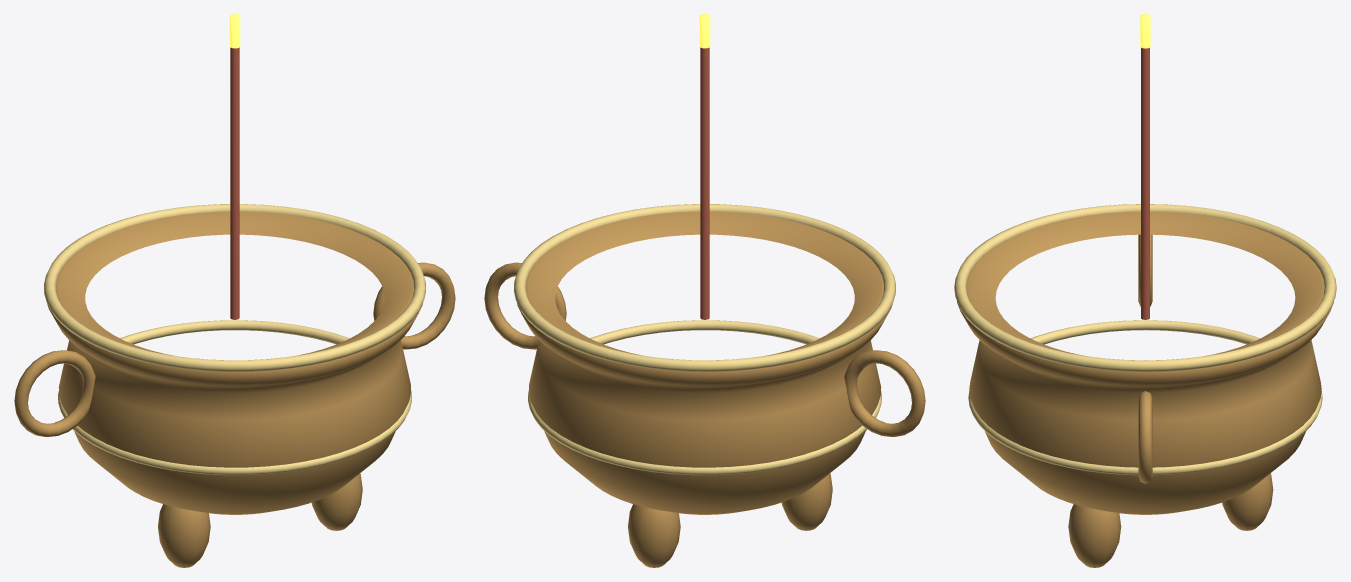
The model's file is incense_1.glb.
3 renders of one model, left to right at view 1: azimuth 30°, elevation 25°; view 2: azimuth 150°, elevation 25°; view 3: azimuth 270°, elevation 25°, orthographic.
Visible parts, largest first — view 1: censer, lip, band, ear-1, stick0, foot1, ear1, foot0; view 2: censer, lip, band, ear-1, stick0, foot2, ear1, foot1; view 3: censer, lip, band, foot0, stick0, foot2, ear1.
Part boxes in pixels (bbox=[...]): censer: bbox=[47, 211, 422, 514]; lip: bbox=[44, 204, 425, 371]; band: bbox=[58, 320, 411, 475]; ear-1: bbox=[14, 350, 95, 436]; stick0: bbox=[230, 47, 239, 319]; foot1: bbox=[158, 504, 210, 567]; ear1: bbox=[373, 262, 455, 349]; foot0: bbox=[311, 473, 362, 530]; censer: bbox=[517, 211, 892, 514]; lip: bbox=[514, 204, 895, 371]; band: bbox=[528, 320, 881, 475]; ear-1: bbox=[844, 350, 925, 436]; stick0: bbox=[700, 47, 709, 319]; foot2: bbox=[628, 504, 680, 567]; ear1: bbox=[484, 262, 566, 349]; foot1: bbox=[781, 473, 832, 530]; censer: bbox=[957, 211, 1333, 514]; lip: bbox=[954, 204, 1336, 371]; band: bbox=[968, 320, 1322, 475]; foot0: bbox=[1068, 504, 1121, 567]; stick0: bbox=[1141, 47, 1149, 319]; foot2: bbox=[1222, 473, 1273, 530]; ear1: bbox=[1138, 391, 1152, 483].
Bounding box in the file's own units: 1.15 × 1.28 × 0.868.
